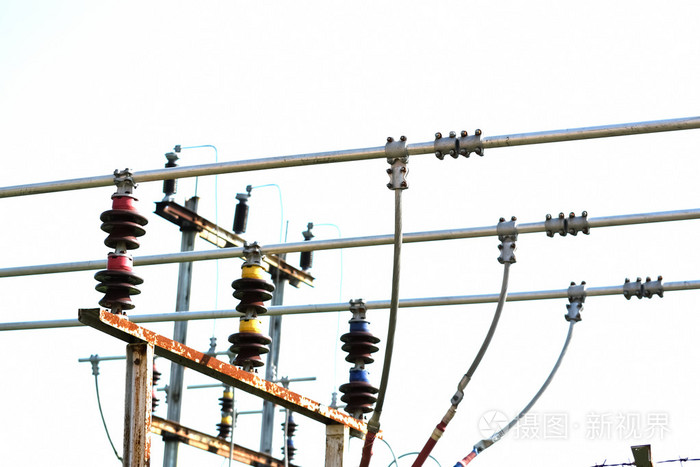insulator: (98, 210, 148, 252), (95, 271, 145, 311), (230, 277, 277, 316), (229, 332, 274, 366), (338, 330, 381, 363), (339, 382, 377, 414)
